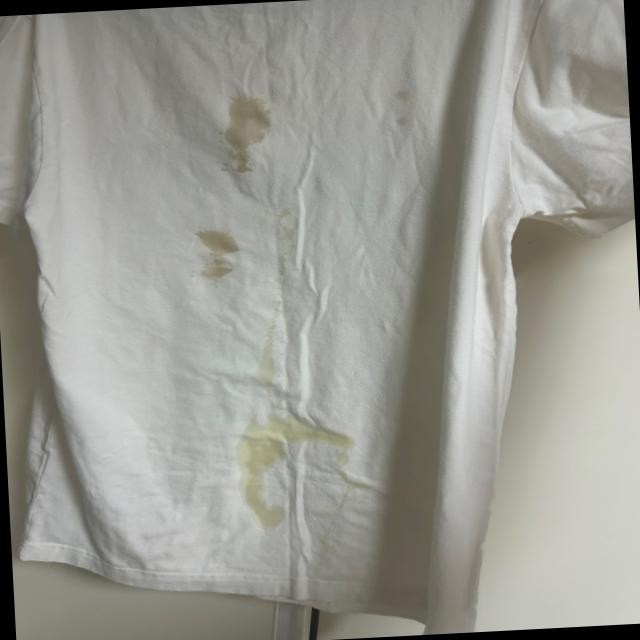stain: (237, 411, 360, 463), (210, 88, 272, 179), (193, 222, 252, 284), (243, 456, 291, 530), (382, 86, 418, 148), (257, 328, 283, 383), (264, 214, 298, 250)
